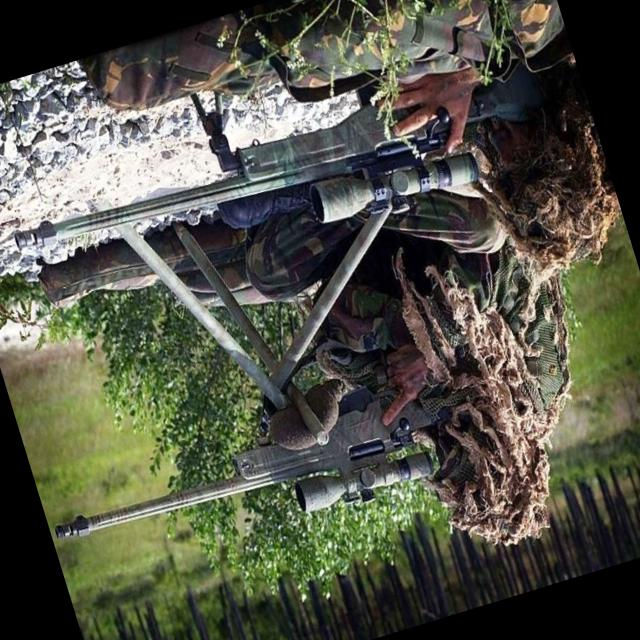Weapon: (0, 124, 546, 592), (0, 0, 561, 326)
